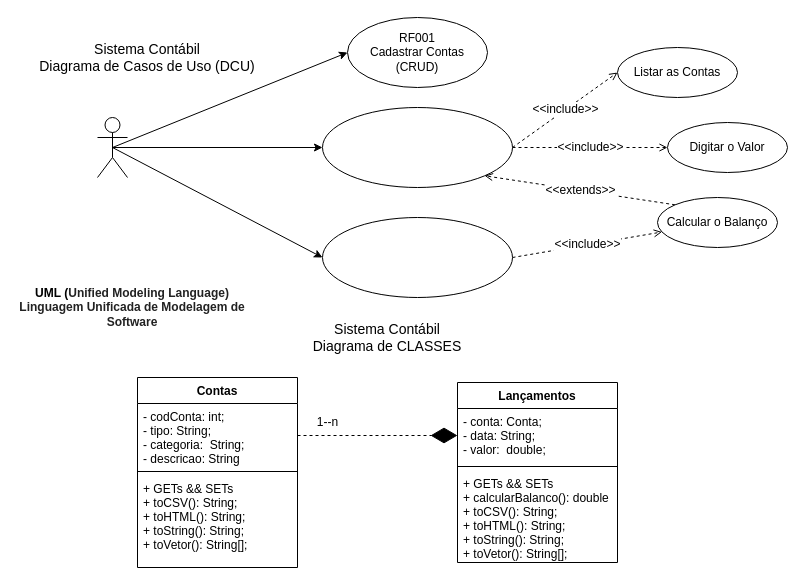
Image size: 805x588. Some labels were removed from this diagram. The shapes that lost their labels are listed below. From the top down, each one's centre as x and y in pixels, then its label:
pixel 112 147: Contador
pixel 417 147: RF002 Registrar Lançamentos de Contas (CRUD)
pixel 417 257: RF003 Emitir Relatório por Período (CRUD)
